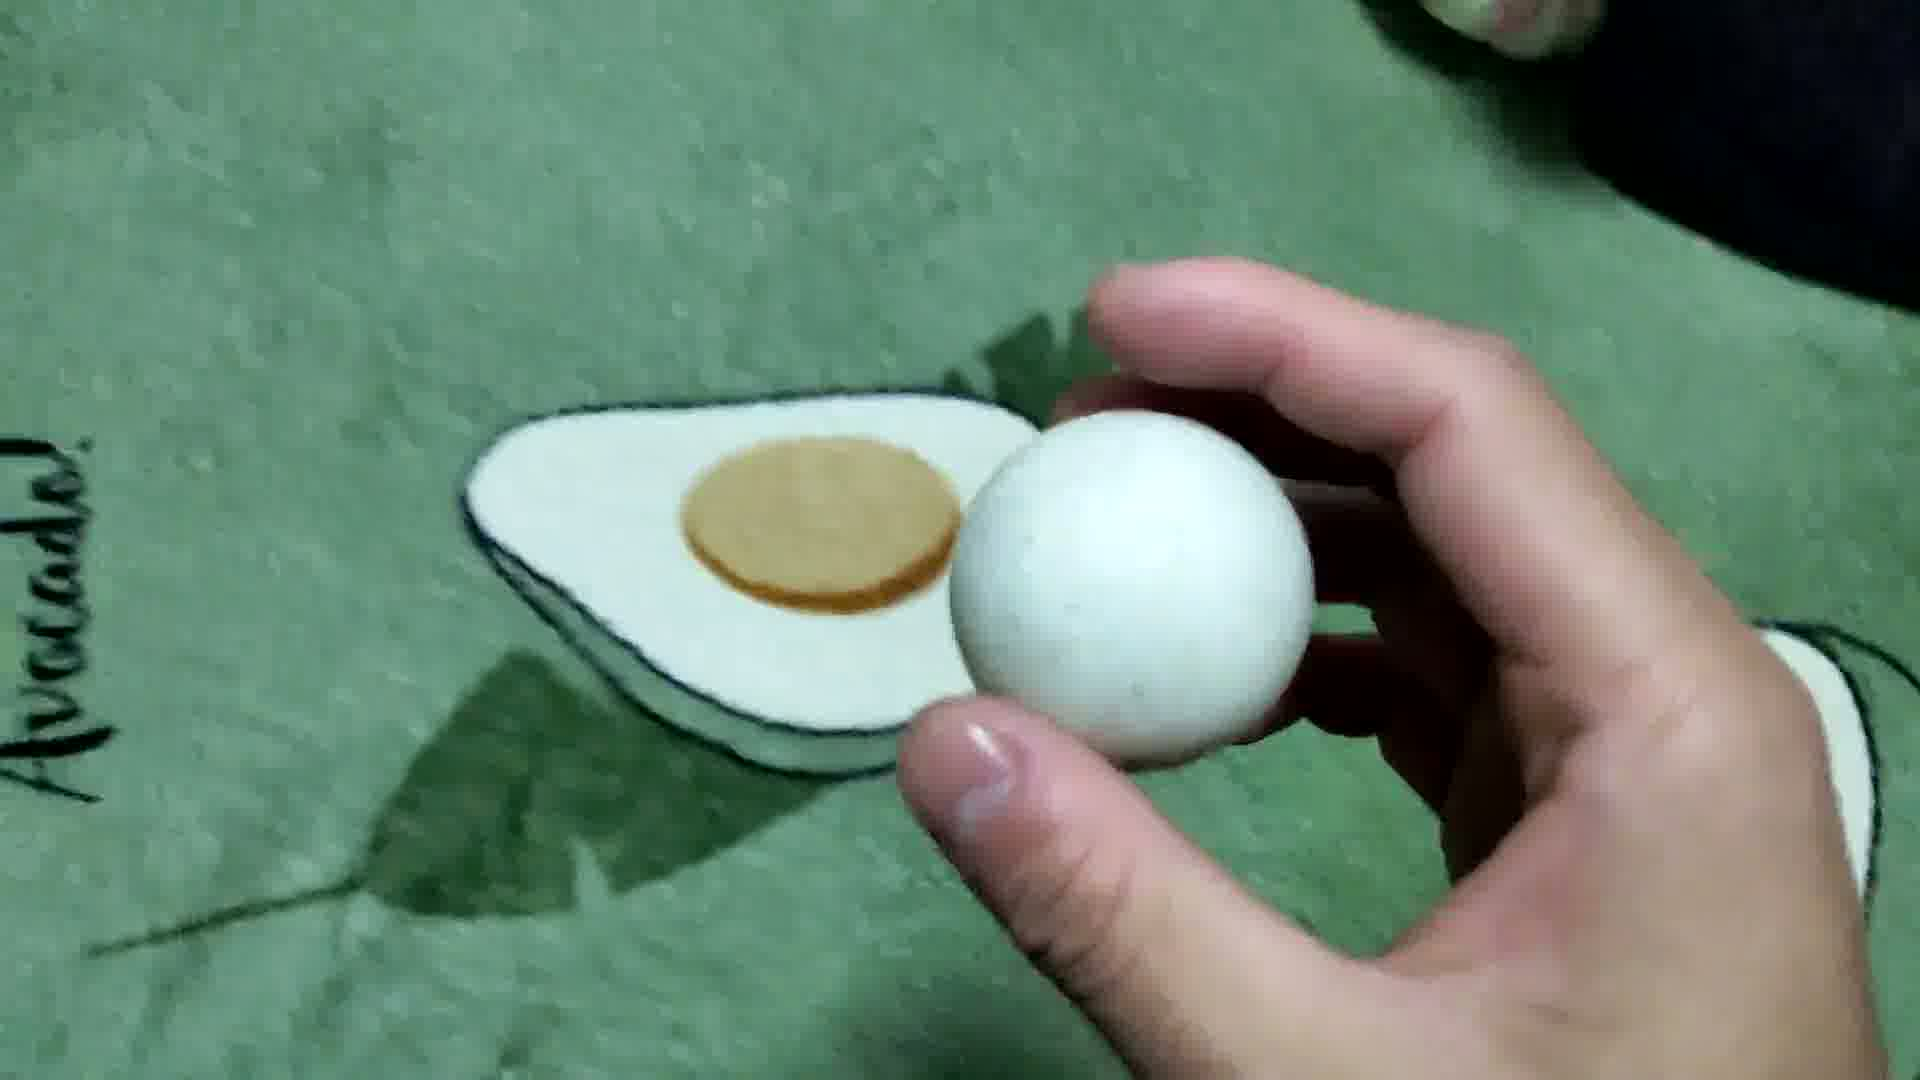Ball: (956, 406, 1313, 764)
